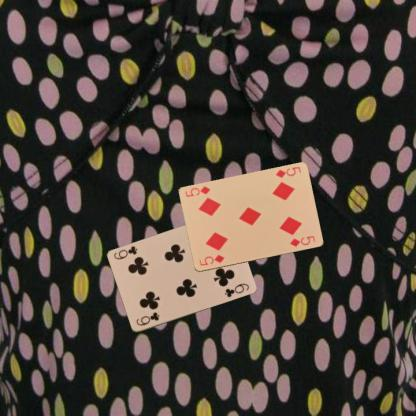5d: (196, 252, 226, 267), (273, 165, 302, 179)
6c: (134, 310, 160, 327)
